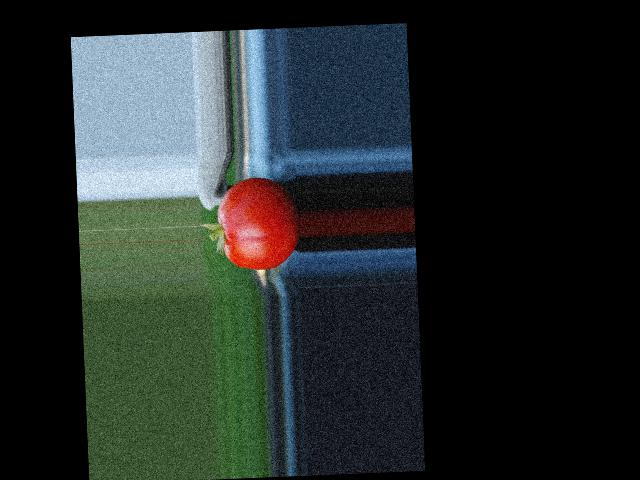tomato: (216, 176, 300, 271)
